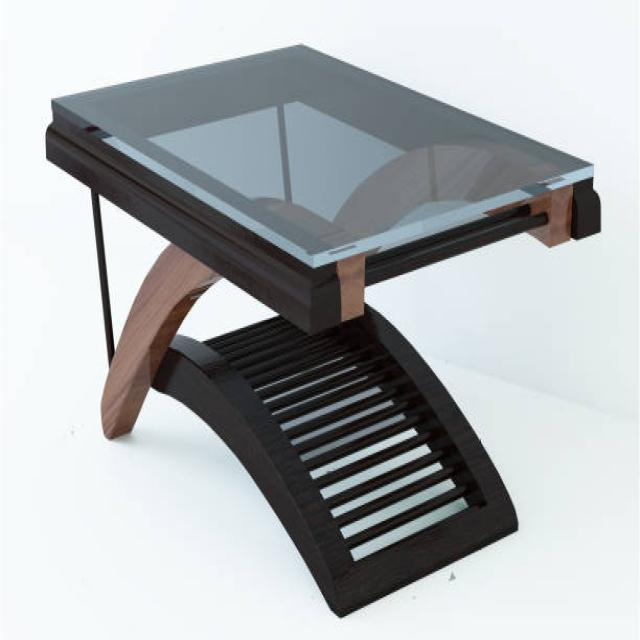table: (44, 40, 602, 618)
